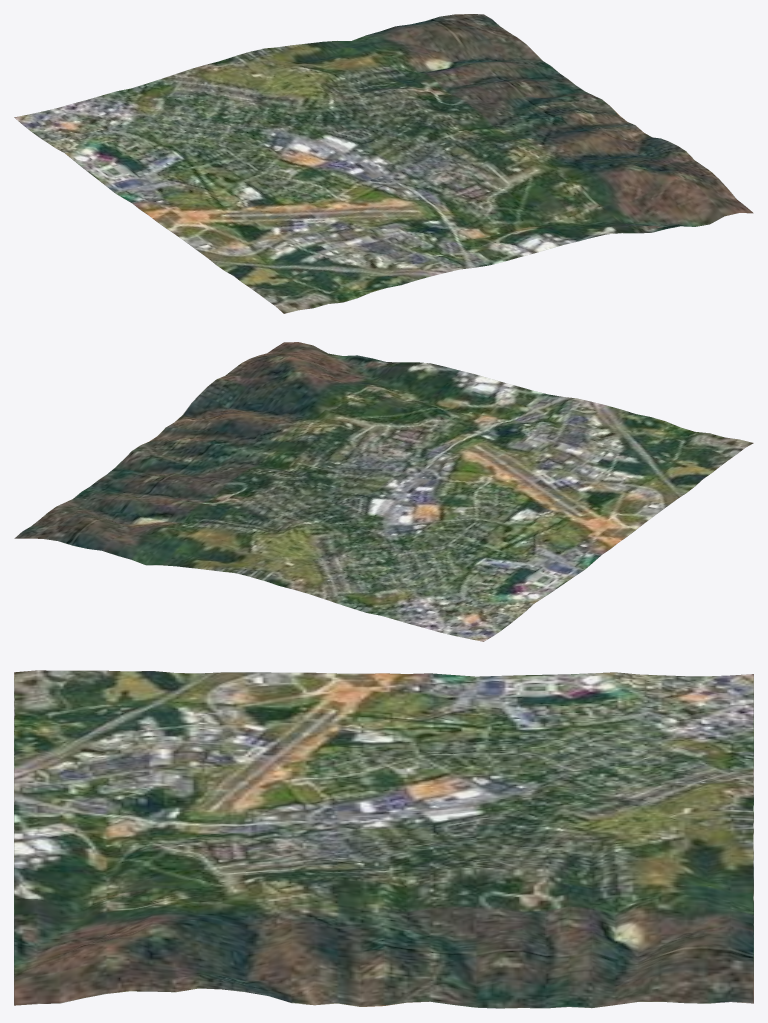
The picture shows the model from 3 angles, top to bottom: view 1: azimuth 30°, elevation 25°; view 2: azimuth 150°, elevation 25°; view 3: azimuth 270°, elevation 25°; orthographic projection. The views are drawn at different scales.
Bounding box in the file's own units: 3902 × 203 × 3885.
1 material, 1 textured.
